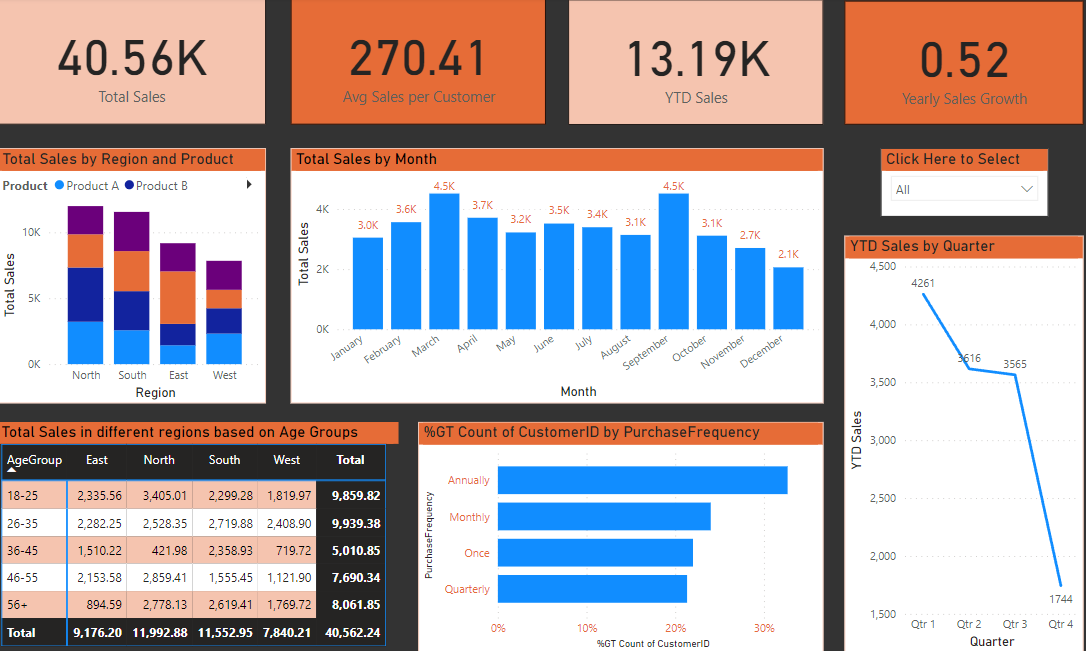

This screenshot's page, from the dashboard's own definition file:
{"tool":"powerbi","page":{"name":"Page 1","canvas":[1280,720],"ordinal":0},"visuals":[{"type":"clusteredBarChart","fields":{"Category":["sales_customer_segmentation_sample.PurchaseFrequency"],"Y":["CountNonNull(sales_customer_segmentation_sample.CustomerID)"]},"box":[511.8,466.6,444.6,253.9],"z":0},{"type":"columnChart","fields":{"Category":["sales_customer_segmentation_sample.Region"],"Series":["sales_customer_segmentation_sample.Product"],"Y":["sales_customer_segmentation_sample.Total Sales"]},"box":[49.4,166,295,279.9],"z":1000},{"type":"lineChart","fields":{"Category":["sales_customer_segmentation_sample.PurchaseDate.Variation.Date Hierarchy.Quarter"],"Y":["sales_customer_segmentation_sample.YTD Sales"]},"box":[979.8,262.1,262.1,458.3],"z":2000},{"type":"lineStackedColumnComboChart","fields":{"Y":["sales_customer_segmentation_sample.Total Sales"],"Category":["sales_customer_segmentation_sample.PurchaseDate.Variation.Date Hierarchy.Month"]},"box":[371.9,166,584.6,279.9],"z":3000},{"type":"pivotTable","title":"Total Sales in different regions based on Age Groups","fields":{"Columns":["sales_customer_segmentation_sample.Region"],"Rows":["sales_customer_segmentation_sample.AgeGroup"],"Values":["sales_customer_segmentation_sample.Total Sales"]},"box":[49.4,466.6,440.5,253.9],"z":4000},{"type":"actionButton","box":[0,0,100,40],"z":5000},{"type":"card","fields":{"Values":["sales_customer_segmentation_sample.Total Sales"]},"box":[49.4,0,295,140],"z":6000},{"type":"card","fields":{"Values":["sales_customer_segmentation_sample.Avg Sales per Customer"]},"box":[371.9,0,279.9,140],"z":7000},{"type":"card","fields":{"Values":["sales_customer_segmentation_sample.YTD Sales"]},"box":[676.5,2.7,279.9,137.2],"z":8000},{"type":"card","fields":{"Values":["sales_customer_segmentation_sample.Yearly Sales Growth"]},"box":[979.8,4.1,262.1,135.8],"z":9000},{"type":"slicer","title":"Click Here to Select","fields":{"Values":["sales_customer_segmentation_sample.Product","sales_customer_segmentation_sample.Region"]},"box":[1019.6,166,183.9,75.5],"z":10000}]}

Visuals, with their boxes in screenshot pixels (x1, y1, x2, y2):
clusteredBarChart - sales_customer_segmentation_sample.PurchaseFrequency x CountNonNull(sales_customer_segmentation_sample.CustomerID): {"left": 421, "top": 417, "right": 821, "bottom": 645}
columnChart - sales_customer_segmentation_sample.Region x sales_customer_segmentation_sample.Product: {"left": 5, "top": 146, "right": 270, "bottom": 398}
lineChart - sales_customer_segmentation_sample.PurchaseDate.Variation.Date Hierarchy.Quarter x sales_customer_segmentation_sample.YTD Sales: {"left": 842, "top": 233, "right": 1077, "bottom": 645}
lineStackedColumnComboChart - sales_customer_segmentation_sample.Total Sales x sales_customer_segmentation_sample.PurchaseDate.Variation.Date Hierarchy.Month: {"left": 295, "top": 146, "right": 821, "bottom": 398}
"Total Sales in different regions based on Age Groups" pivotTable: {"left": 5, "top": 417, "right": 401, "bottom": 645}
actionButton: {"left": 0, "top": 0, "right": 50, "bottom": 33}
card - sales_customer_segmentation_sample.Total Sales: {"left": 5, "top": 0, "right": 270, "bottom": 123}
card - sales_customer_segmentation_sample.Avg Sales per Customer: {"left": 295, "top": 0, "right": 547, "bottom": 123}
card - sales_customer_segmentation_sample.YTD Sales: {"left": 569, "top": 0, "right": 821, "bottom": 123}
card - sales_customer_segmentation_sample.Yearly Sales Growth: {"left": 842, "top": 1, "right": 1077, "bottom": 123}
"Click Here to Select" slicer: {"left": 877, "top": 146, "right": 1043, "bottom": 214}
